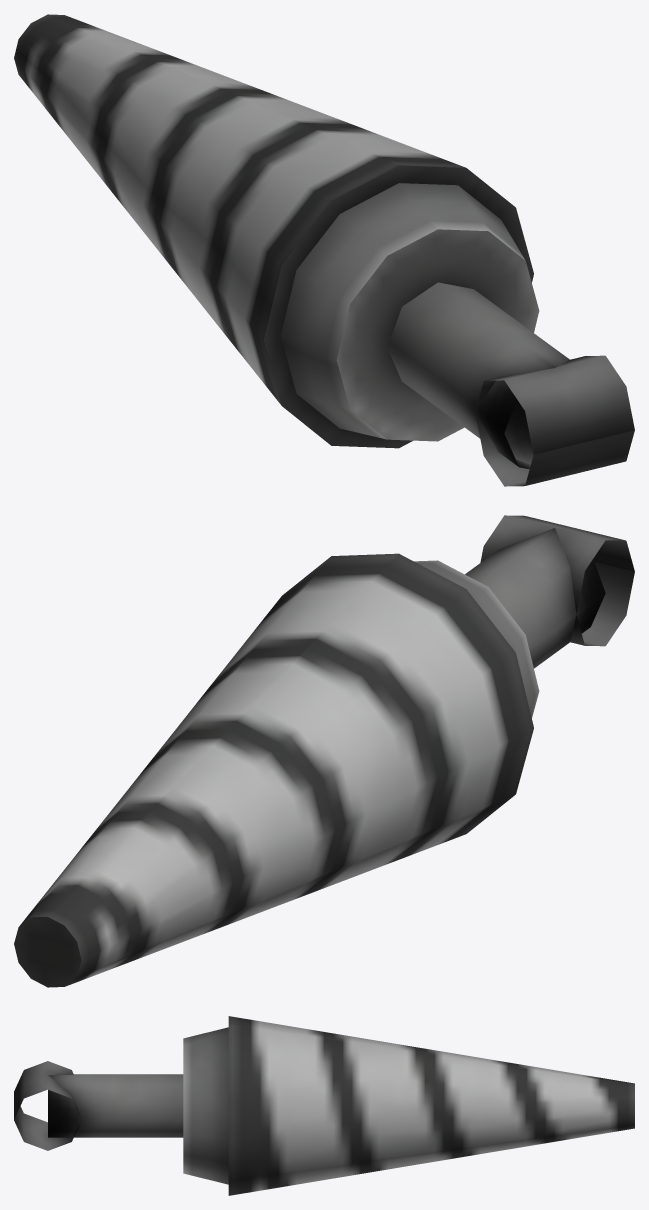
Rendered from staticcone.obj.
3 views of the same model, one above another, from view 1: azimuth 30°, elevation 25°; view 2: azimuth 150°, elevation 25°; view 3: azimuth 270°, elevation 25° (orthographic). The views are drawn at different scales.
Visible parts, largest first — view 1: 1; view 2: 1; view 3: 1.
Boxes of the visible parts, x1,y1,x2,y2 form: 1: (14, 14, 634, 486); 1: (14, 515, 634, 987); 1: (14, 1016, 634, 1195).
Size of the model in its own units: 0.1 by 0.1 by 0.3437.
1 material, 1 textured.
